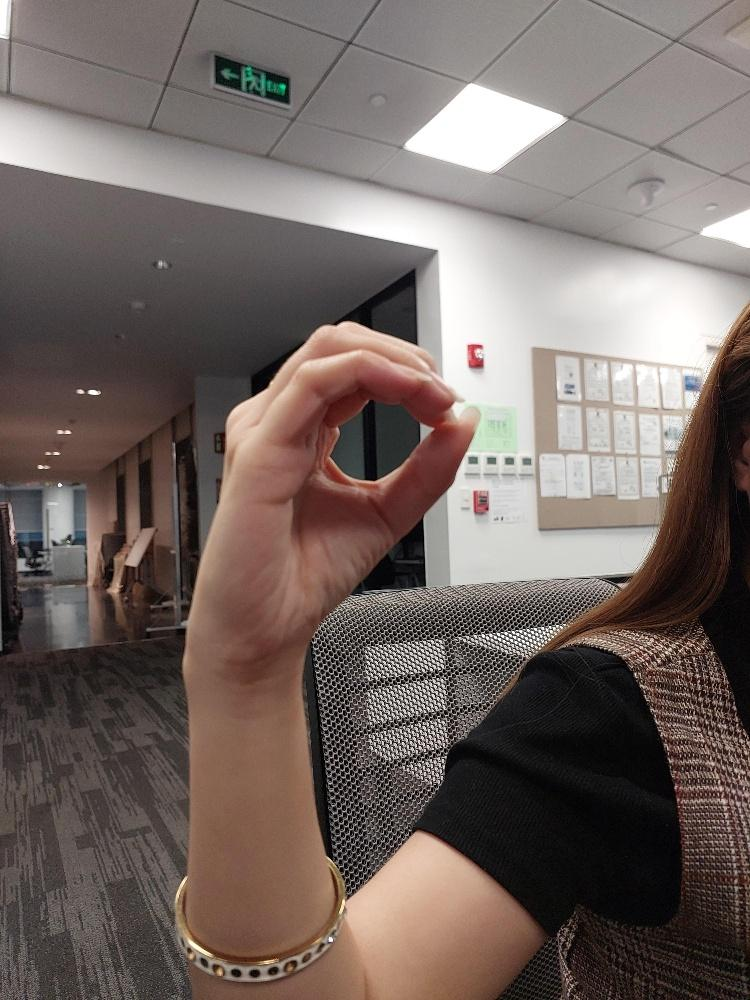o: (175, 316, 485, 671)
